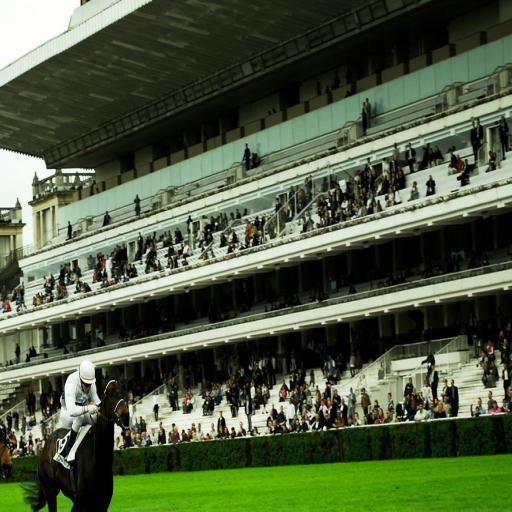horse: (16, 368, 130, 512)
